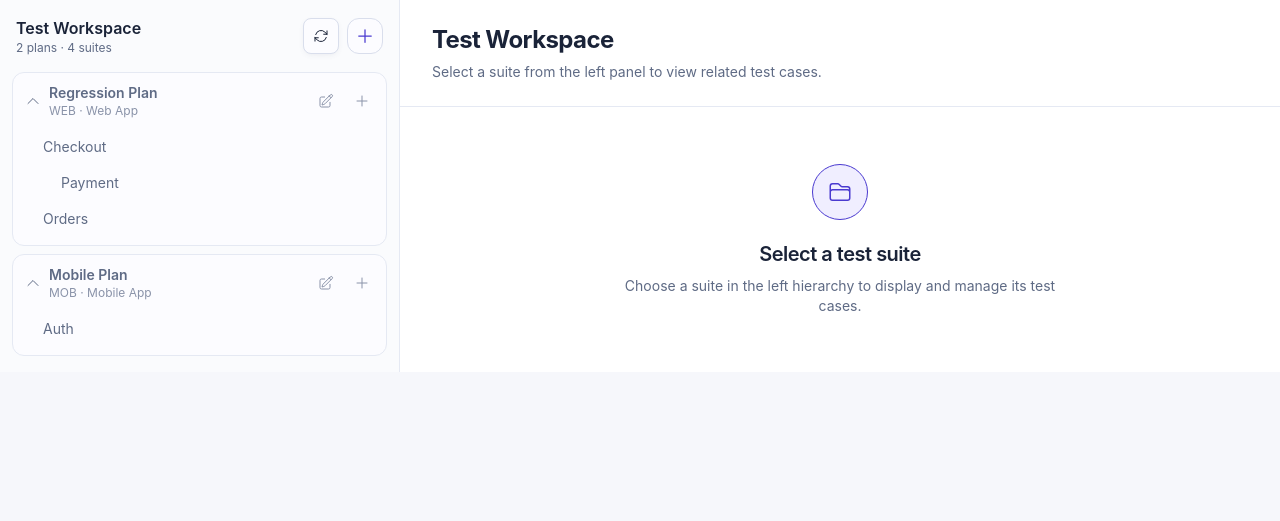
Scenario: TestManagementWorkspace › cancels inline rename with Escape without update request
Double-click the button "Payment" at (90,182), box [13,165,386,201]
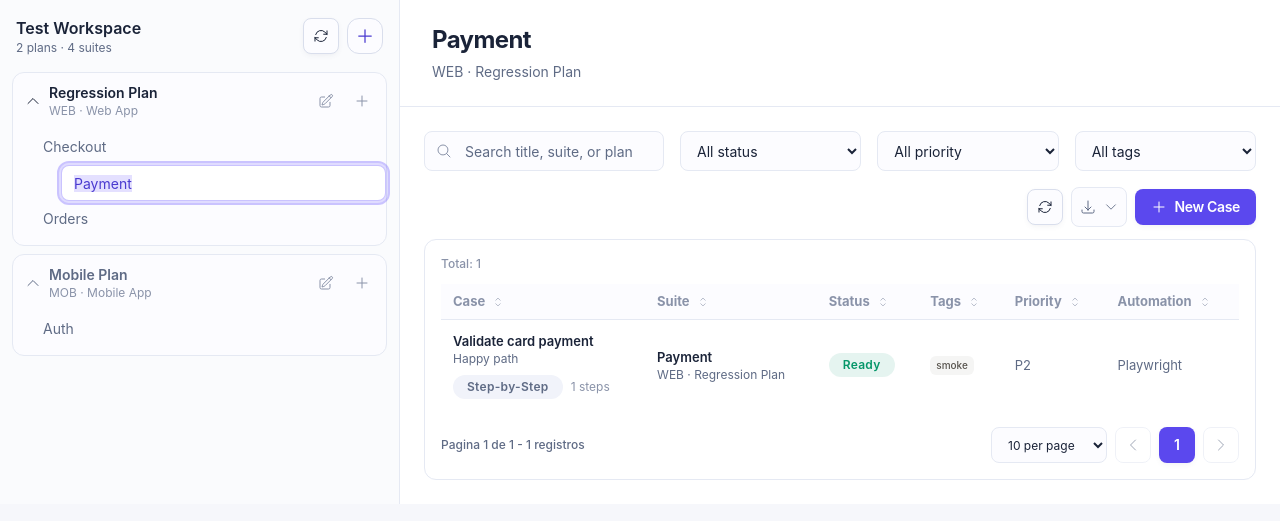
Replace the text in the field named "Edit suite name" with "Will not persist" at (224,183), box [61,165,386,201]
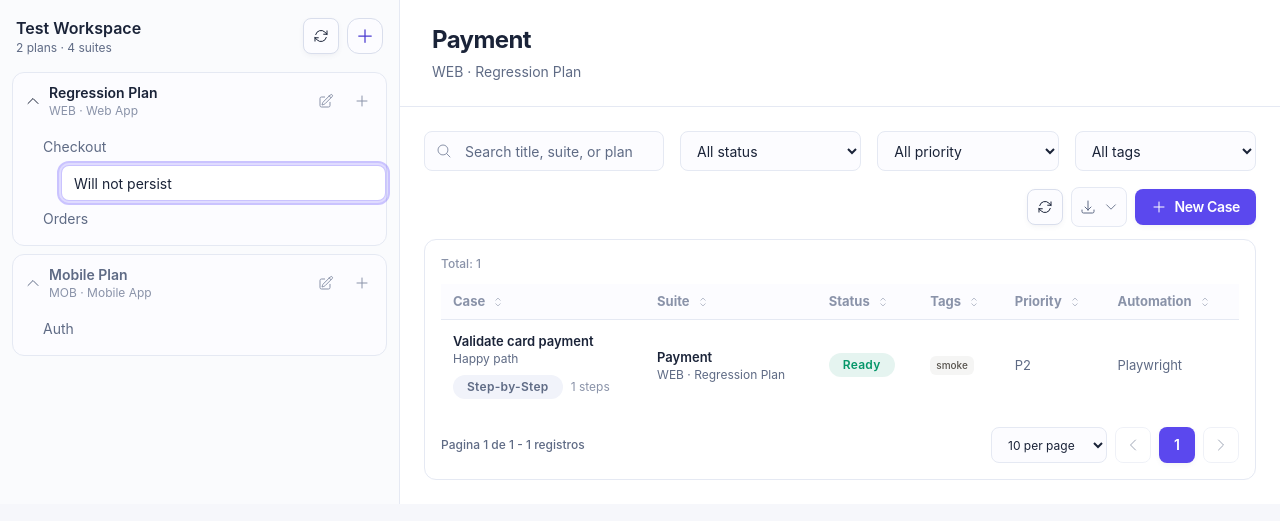
Press Escape in the field named "Edit suite name", box [61,165,386,201]
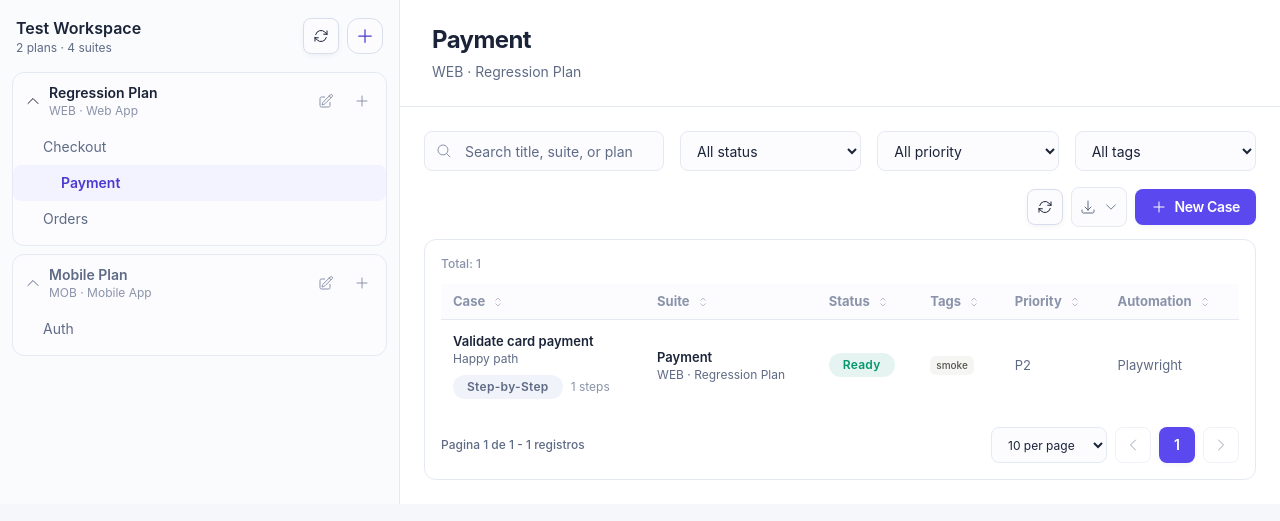
Result: the button "Payment" is shown at [13,165,386,201]
